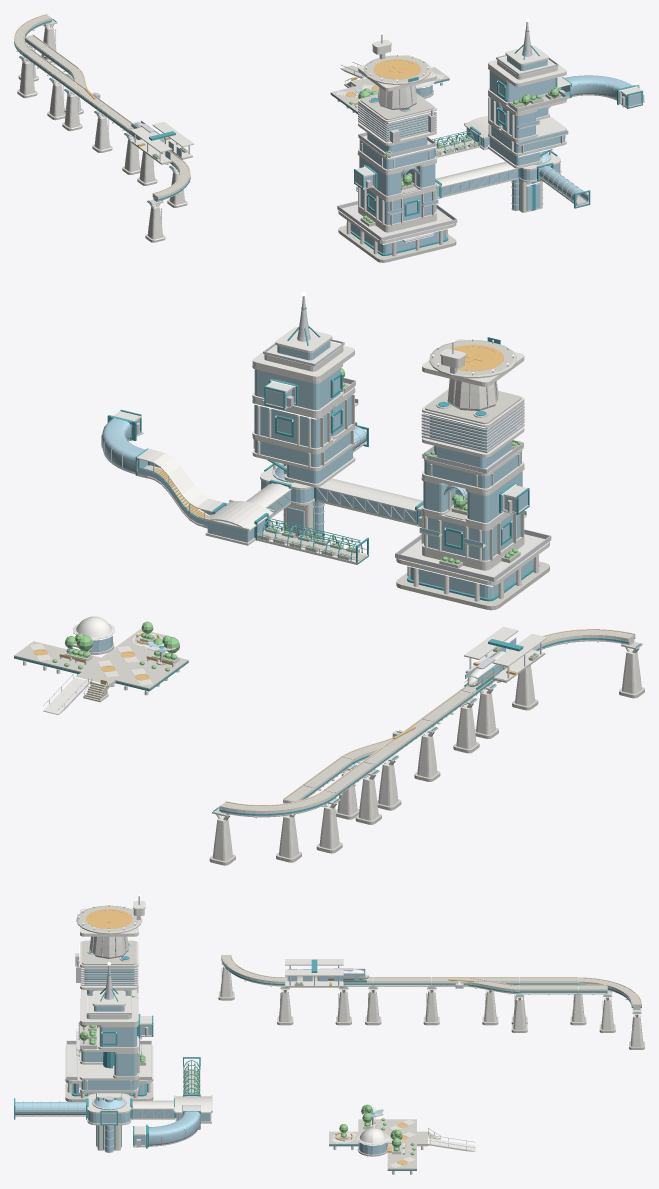
The model's file is arcology-towers-and-skyways-connector-cases-a476800b__23283.glb.
The picture shows the model from 3 angles, top to bottom: view 1: azimuth 30°, elevation 25°; view 2: azimuth 150°, elevation 25°; view 3: azimuth 270°, elevation 25°; orthographic projection. The views are drawn at different scales.
Visible parts, largest first — view 1: 000-podium-base/1, 012-crown-mast/0, 004-mechanical-floor/2, 001-residential-section/1, 009-offset-cantilever-section/1, 009-offset-cantilever-section/0, 003-setback-transition/1, 002-atrium-section/1, 038-maglev-station-platform-pod/0, 021-skybridge-curved-span/0, 000-podium-base/0, 001-residential-section/0 (+31 smaller); view 2: 000-podium-base/1, 012-crown-mast/0, 004-mechanical-floor/2, 010-corner-tower-section/1, 001-residential-section/1, 009-offset-cantilever-section/1, 003-setback-transition/1, 002-atrium-section/1, 038-maglev-station-platform-pod/0, 000-podium-base/0, 020-transit-escalator-link/0, 001-residential-section/0 (+23 smaller); view 3: 012-crown-mast/0, 004-mechanical-floor/2, 038-maglev-station-platform-pod/0, 021-skybridge-curved-span/0, 000-podium-base/1, 009-offset-cantilever-section/0, 016-glazed-tube-span/0, 006-crown-landing-deck/1, 010-corner-tower-section/1, 005-slim-spire-section/0, 006-crown-landing-deck/2, 011-terraced-garden-section/1 (+14 smaller).
Boxes of the visible parts, x1,y1,x2,y2 form: 000-podium-base/1: [338, 204, 456, 256]; 012-crown-mast/0: [488, 45, 566, 86]; 004-mechanical-floor/2: [358, 97, 436, 142]; 001-residential-section/1: [356, 186, 438, 224]; 009-offset-cantilever-section/1: [489, 126, 568, 165]; 009-offset-cantilever-section/0: [488, 116, 568, 168]; 003-setback-transition/1: [359, 133, 434, 169]; 002-atrium-section/1: [359, 156, 435, 195]; 038-maglev-station-platform-pod/0: [130, 122, 194, 164]; 021-skybridge-curved-span/0: [562, 75, 632, 99]; 000-podium-base/0: [338, 217, 456, 262]; 001-residential-section/0: [356, 186, 438, 227]; 000-podium-base/1: [396, 534, 549, 601]; 012-crown-mast/0: [252, 327, 354, 380]; 004-mechanical-floor/2: [421, 401, 524, 452]; 010-corner-tower-section/1: [254, 396, 358, 448]; 001-residential-section/1: [419, 510, 526, 560]; 009-offset-cantilever-section/1: [254, 422, 357, 483]; 003-setback-transition/1: [424, 441, 521, 488]; 002-atrium-section/1: [423, 471, 522, 522]; 038-maglev-station-platform-pod/0: [464, 626, 546, 684]; 000-podium-base/0: [396, 550, 549, 610]; 020-transit-escalator-link/0: [137, 449, 223, 528]; 001-residential-section/0: [419, 511, 526, 563]; 012-crown-mast/0: [80, 990, 138, 1025]; 004-mechanical-floor/2: [75, 943, 137, 985]; 038-maglev-station-platform-pod/0: [285, 959, 343, 986]; 021-skybridge-curved-span/0: [149, 1111, 200, 1145]; 000-podium-base/1: [65, 1044, 153, 1098]; 009-offset-cantilever-section/0: [77, 1057, 139, 1093]; 016-glazed-tube-span/0: [15, 1102, 85, 1114]; 006-crown-landing-deck/1: [76, 905, 142, 934]; 010-corner-tower-section/1: [76, 1037, 137, 1075]; 005-slim-spire-section/0: [89, 936, 128, 958]; 006-crown-landing-deck/2: [86, 909, 132, 928]; 011-terraced-garden-section/1: [99, 1027, 136, 1047].
Bounding box in the file's own units: 139 × 57.1 × 172.
